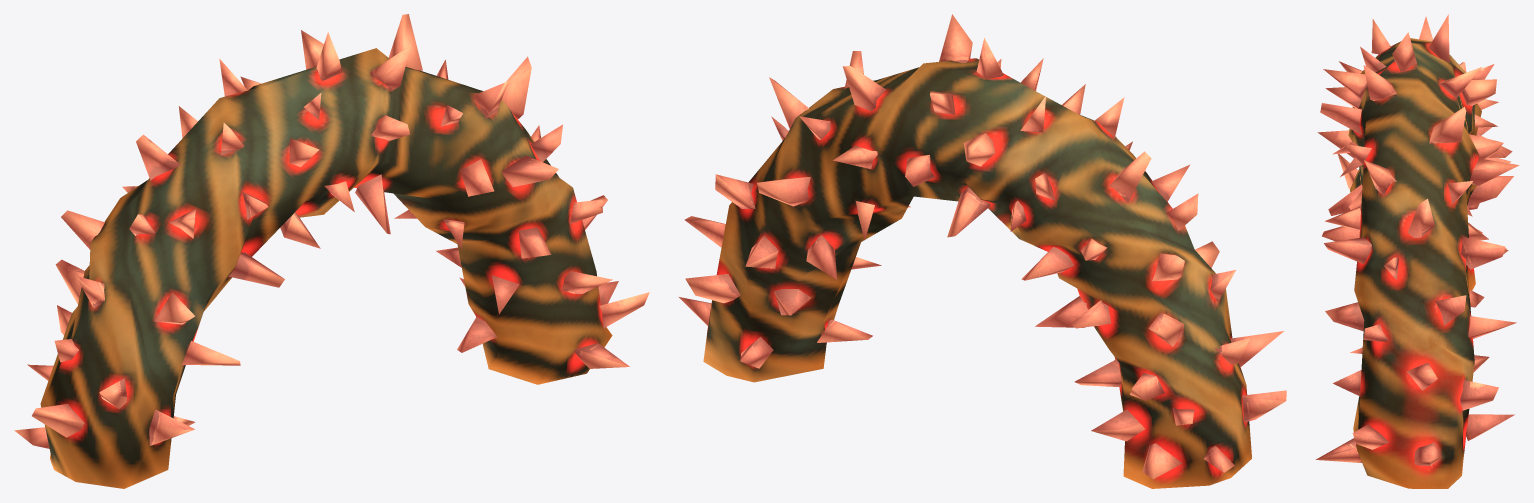
The model's file is BrambleSemiCircle.fbx.
3 renders of one model, left to right at view 1: azimuth 30°, elevation 25°; view 2: azimuth 150°, elevation 25°; view 3: azimuth 270°, elevation 25°, orthographic. The views are drawn at different scales.
Visible parts, largest first — view 1: mdl_bramble2_lp; view 2: mdl_bramble2_lp; view 3: mdl_bramble2_lp.
Part boxes in pixels (bbox=[...]): mdl_bramble2_lp: bbox=[14, 14, 649, 488]; mdl_bramble2_lp: bbox=[679, 14, 1286, 488]; mdl_bramble2_lp: bbox=[1315, 14, 1519, 488].
Bounding box in the file's own units: 77.54 × 25.39 × 47.09.
